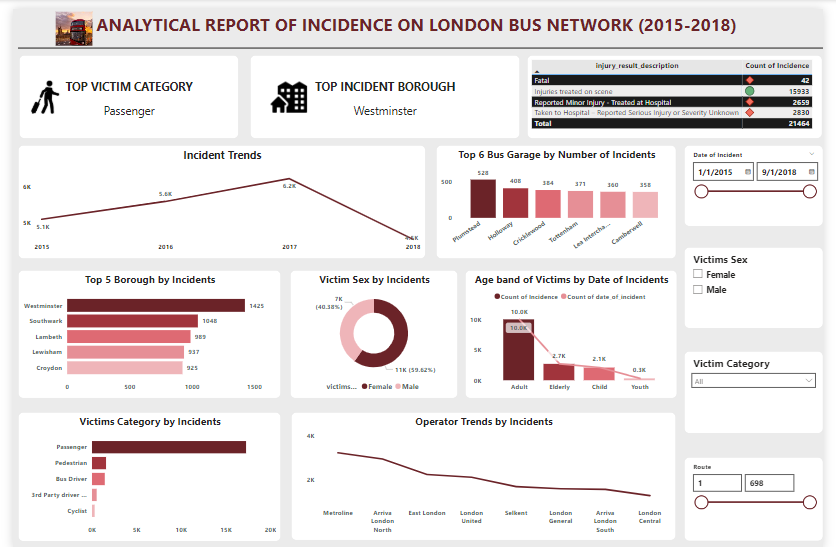

The page's visual inventory and layout, read from the dashboard file:
{"tool":"powerbi","page":{"name":"DASHBOARD","canvas":[1500,1000],"ordinal":0},"visuals":[{"type":"textbox","box":[9.8,0,1476.4,100.4],"z":0},{"type":"shape","box":[9.6,44.2,1490.4,55.8],"z":1000},{"type":"lineChart","title":"Incident Trends","fields":{"Category":["tfl_bus_safety.date_of_incident.Variation.Date Hierarchy.Year"],"Y":["tfl_bus_safety.Count of Incidence"]},"box":[9.1,252.7,754.5,210.9],"z":2000},{"type":"barChart","title":"Top 5 Borough by Incidents ","fields":{"Category":["tfl_bus_safety.borough"],"Y":["tfl_bus_safety.Count of Incidence"]},"box":[9.1,483.6,487.3,238.2],"z":3000},{"type":"barChart","title":"Victims Category by Incidents","fields":{"Category":["tfl_bus_safety.victim_category"],"Y":["tfl_bus_safety.Count of Incidence"]},"box":[9.1,745.5,487.3,240],"z":4000},{"type":"donutChart","title":"Victim Sex by Incidents","fields":{"Category":["tfl_bus_safety.victims_sex"],"Y":["tfl_bus_safety.Count of Incidence"]},"box":[512.7,483.6,310.9,238.2],"z":5000},{"type":"lineStackedColumnComboChart","title":"Age band of Victims by Date of Incidents","fields":{"Category":["tfl_bus_safety.victims_age"],"Y":["tfl_bus_safety.Count of Incidence"],"Y2":["CountNonNull(tfl_bus_safety.date_of_incident)"]},"box":[836.4,483.6,392.7,238.2],"z":6000},{"type":"pivotTable","title":"In","fields":{"Rows":["tfl_bus_safety.injury_result_description"],"Values":["tfl_bus_safety.Count of Incidence"]},"box":[952.7,85.5,547.3,154.5],"z":7000},{"type":"columnChart","title":"Top 6 Bus Garage by Number of Incidents","fields":{"Category":["tfl_bus_safety.bus_garage"],"Y":["tfl_bus_safety.Count of Incidence"]},"box":[783.6,252.7,445.5,210.9],"z":8000},{"type":"lineChart","title":"Operator Trends by Incidents","fields":{"Category":["tfl_bus_safety.operator"],"Y":["tfl_bus_safety.Count of Incidence"]},"box":[514.3,746.4,712.5,237.5],"z":9000},{"type":"image","box":[74.5,0,78.2,72.7],"z":10000},{"type":"slicer","fields":{"Values":["tfl_bus_safety.date_of_incident"]},"box":[1241.8,252.7,258.2,150.9],"z":11000},{"type":"slicer","fields":{"Values":["tfl_bus_safety.victims_sex"]},"box":[1241.8,440,258.2,150.9],"z":12000},{"type":"slicer","fields":{"Values":["tfl_bus_safety.victim_category"]},"box":[1241.8,632.7,258.2,152.7],"z":13000},{"type":"slicer","fields":{"Values":["tfl_bus_safety.route"]},"box":[1241.8,829.1,258.2,156.4],"z":14000},{"type":"textbox","box":[10.9,85.5,407.3,154.5],"z":15000},{"type":"image","box":[23.6,127.3,70.9,70.9],"z":16000},{"type":"textbox","box":[438.2,85.5,500,154.5],"z":17000},{"type":"image","box":[470.9,127.3,81.8,70.9],"z":18000}]}

Visuals, with their boxes in screenshot pixels (x1, y1, x2, y2), scaled from the page's 1500x1000 canvas onto the 836x547 screenshot:
textbox: l=5, t=0, r=828, b=55
shape: l=5, t=24, r=835, b=55
"Incident Trends" lineChart: l=5, t=138, r=426, b=254
"Top 5 Borough by Incidents " barChart: l=5, t=265, r=277, b=395
"Victims Category by Incidents" barChart: l=5, t=408, r=277, b=539
"Victim Sex by Incidents" donutChart: l=286, t=265, r=459, b=395
"Age band of Victims by Date of Incidents" lineStackedColumnComboChart: l=466, t=265, r=685, b=395
"In" pivotTable: l=531, t=47, r=835, b=131
"Top 6 Bus Garage by Number of Incidents" columnChart: l=437, t=138, r=685, b=254
"Operator Trends by Incidents" lineChart: l=287, t=408, r=684, b=538
image: l=42, t=0, r=85, b=40
slicer - tfl_bus_safety.date_of_incident: l=692, t=138, r=835, b=221
slicer - tfl_bus_safety.victims_sex: l=692, t=241, r=835, b=323
slicer - tfl_bus_safety.victim_category: l=692, t=346, r=835, b=430
slicer - tfl_bus_safety.route: l=692, t=454, r=835, b=539
textbox: l=6, t=47, r=233, b=131
image: l=13, t=70, r=53, b=108
textbox: l=244, t=47, r=523, b=131
image: l=262, t=70, r=308, b=108
